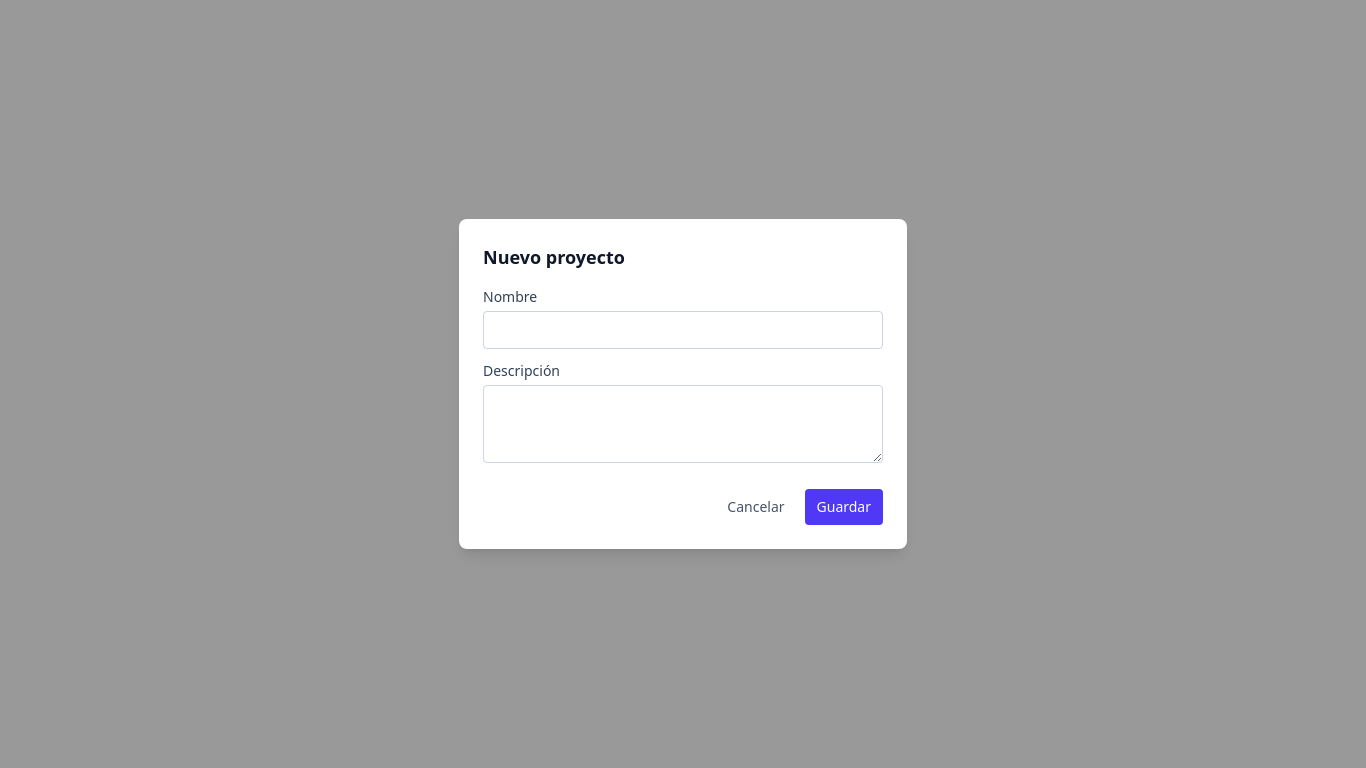
Test: ProjectModal › shows validation error when name is empty
Click the button "Guardar". click: (844, 507)
box: [804, 489, 883, 525]
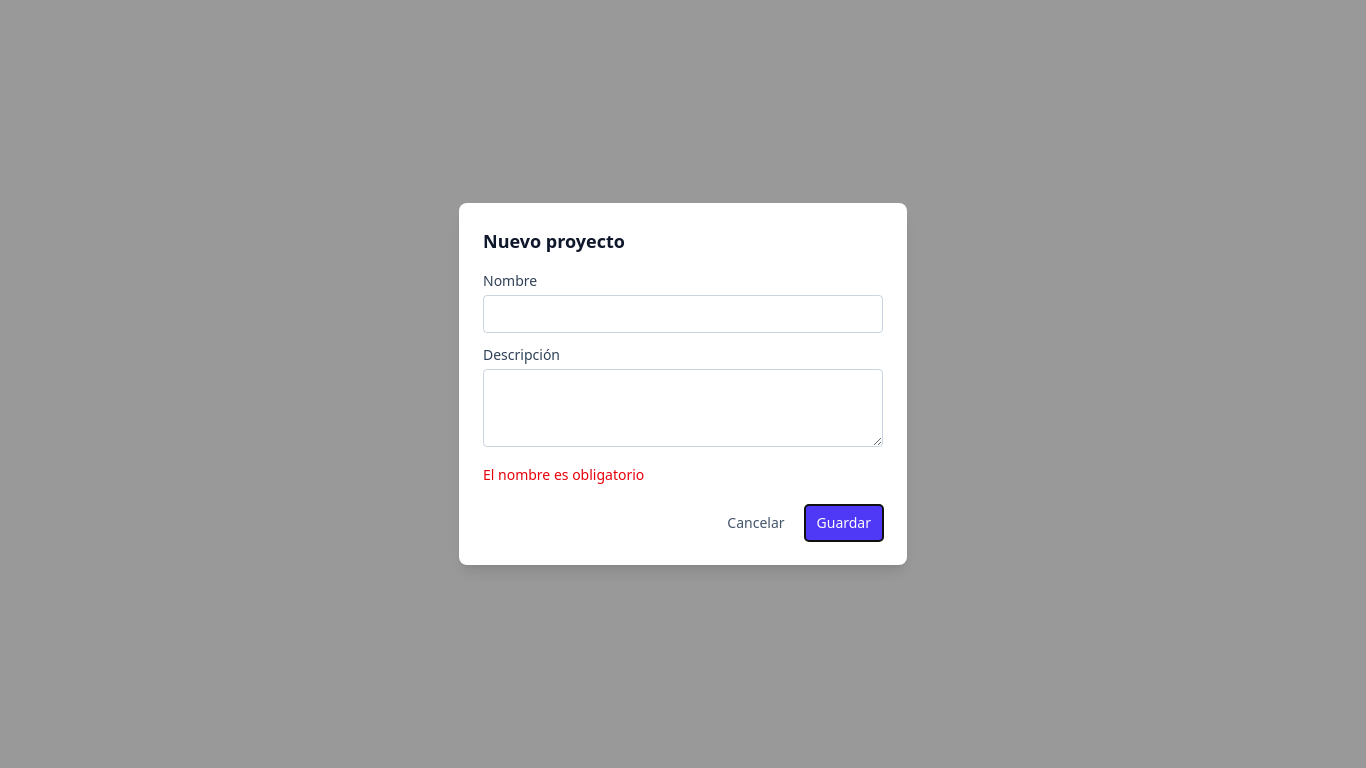
Expected: the text "El nombre es obligatorio" is shown, [483, 465, 644, 484]
